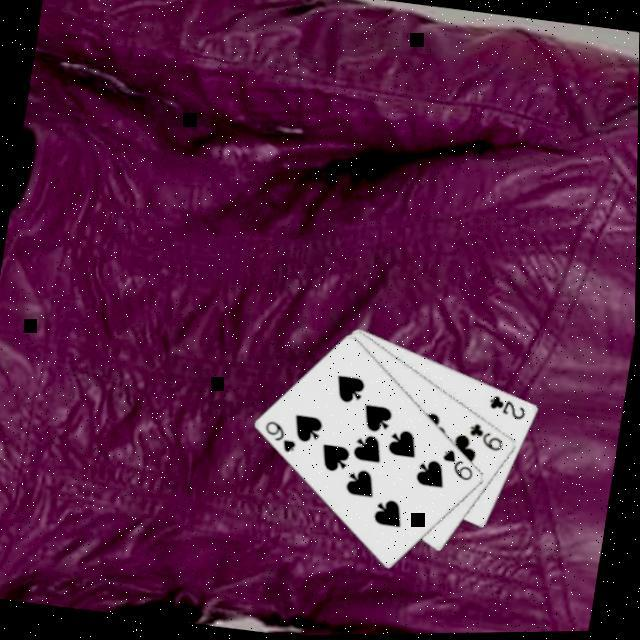2C: (486, 391, 532, 425)
9C: (466, 420, 511, 456)
9S: (439, 445, 482, 485), (262, 417, 304, 456)
